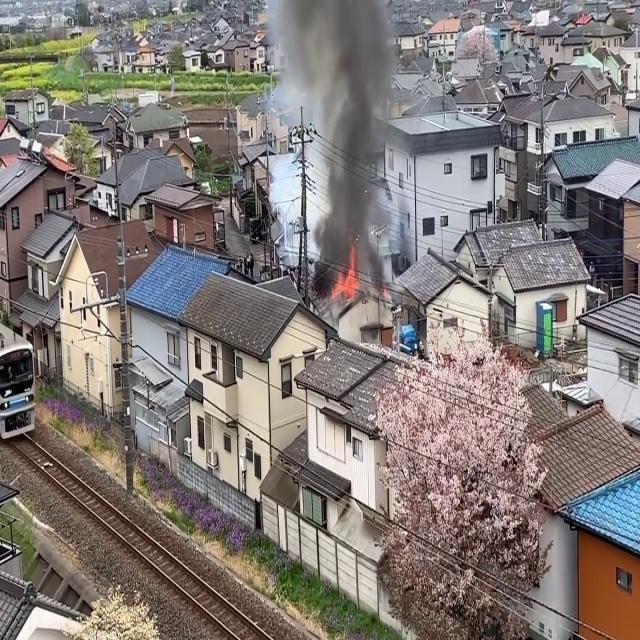Fire: (333, 246, 361, 306)
Smoke: (303, 0, 403, 282)
